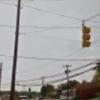traffic lights: (82, 24, 92, 50)
